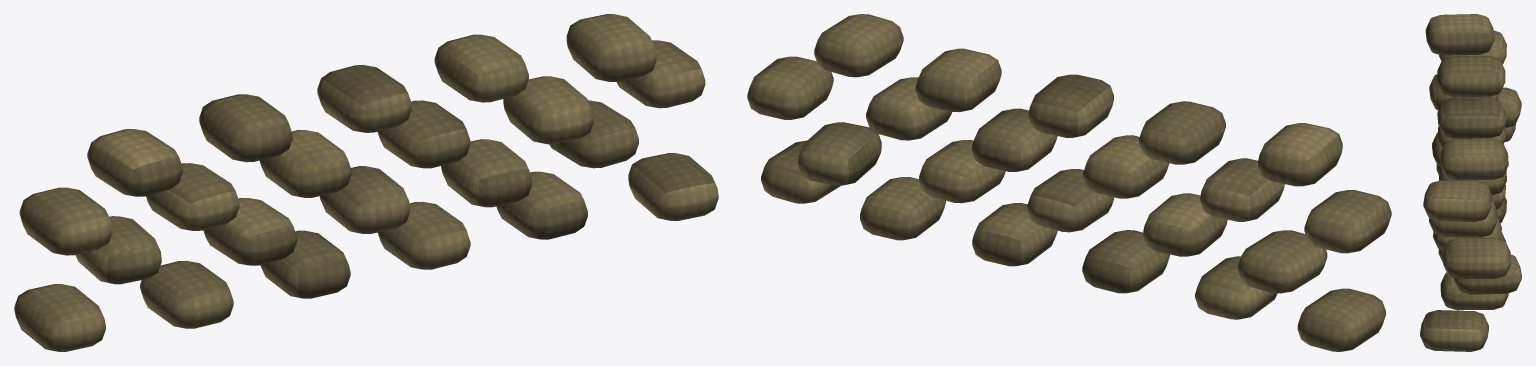
Rendered from sandbag_wall.glb.
3 renders of one model, left to right at view 1: azimuth 30°, elevation 25°; view 2: azimuth 150°, elevation 25°; view 3: azimuth 270°, elevation 25°, orthographic. The views are drawn at different scales.
Visible parts, largest first — view 1: sandbag_wall; view 2: sandbag_wall; view 3: sandbag_wall.
Part boxes in pixels (x1,y1,x2,y2): sandbag_wall: (14, 14, 718, 351); sandbag_wall: (747, 14, 1391, 351); sandbag_wall: (1420, 14, 1521, 351).
Bounding box in the file's own units: 1.77 × 0.4999 × 0.3309.
1 material, 1 textured.
